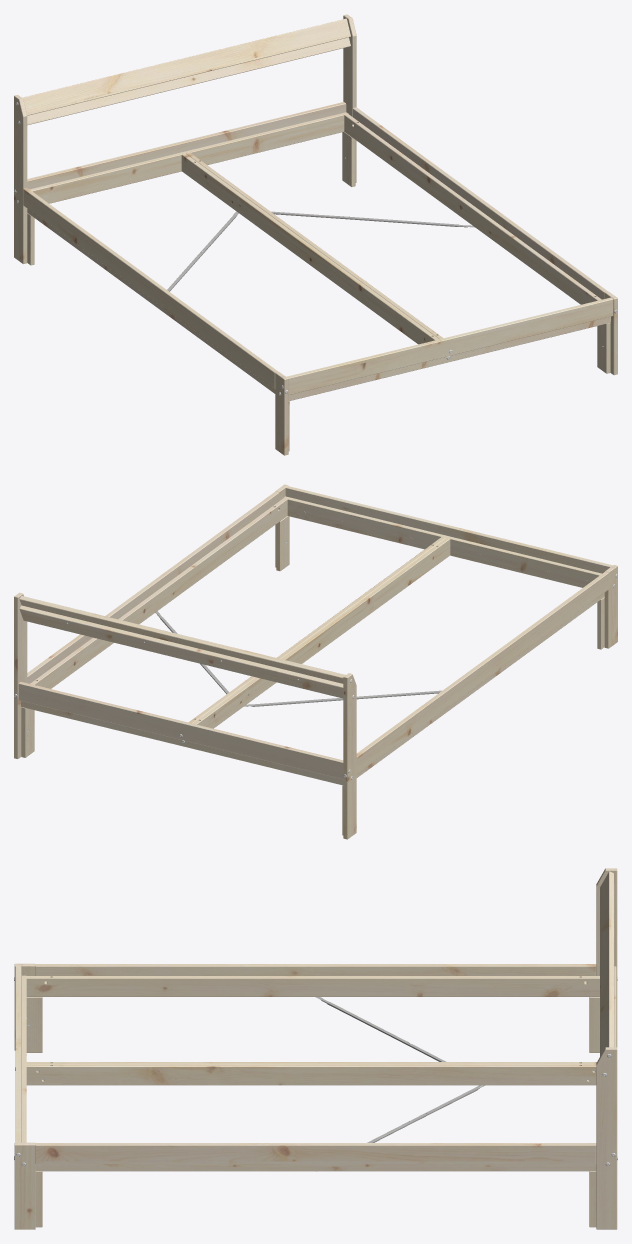
Rendered from NEIDEN_80395248.glb.
3 views of the same model, one above another, from view 1: azimuth 30°, elevation 25°; view 2: azimuth 150°, elevation 25°; view 3: azimuth 270°, elevation 25° (orthographic). The views are drawn at different scales.
Visible parts, largest first — view 1: model; view 2: model; view 3: model.
Part boxes in pixels (x1,y1,x2,y2): model: (14, 14, 617, 455); model: (14, 484, 617, 839); model: (14, 868, 617, 1229).
Size of the model in its own units: 1.39 by 0.645 by 1.96.
Materials: 1 (1 with a texture image).
